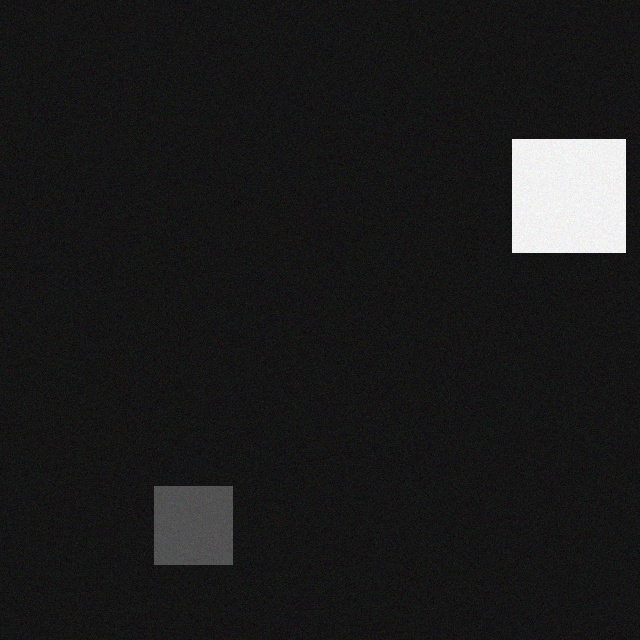square: (511, 137, 624, 250), (153, 484, 231, 562)
